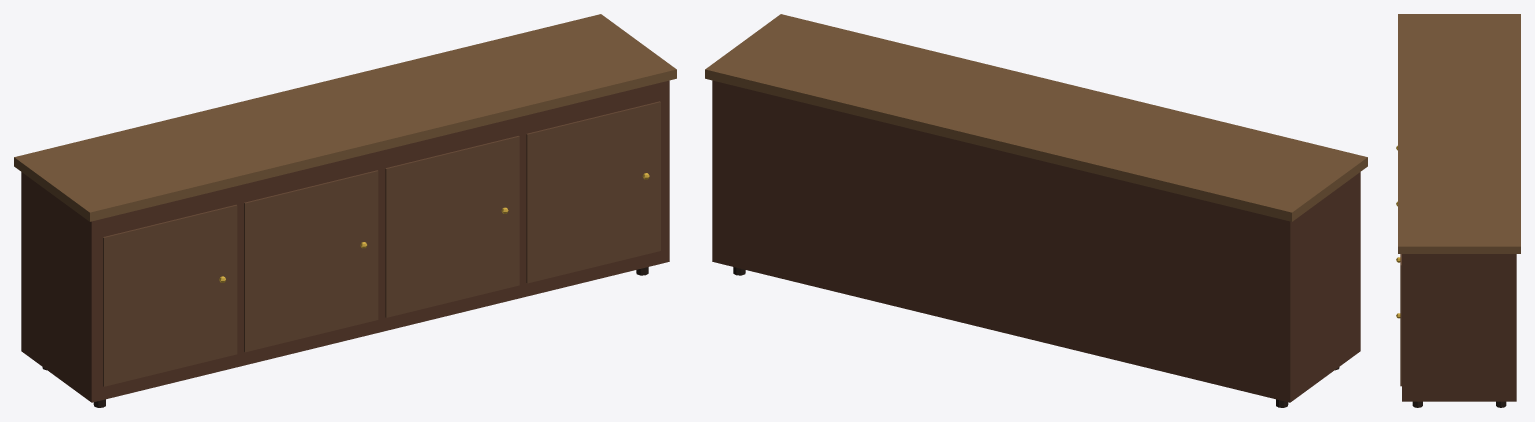
File: sideboard.fbx
The picture shows the model from 3 angles, left to right: view 1: azimuth 30°, elevation 25°; view 2: azimuth 150°, elevation 25°; view 3: azimuth 270°, elevation 25°; orthographic projection. The views are drawn at different scales.
Visible parts, largest first — view 1: sideboard; view 2: sideboard; view 3: sideboard.
Boxes of the visible parts, bbox=[...] form: sideboard: bbox=[14, 14, 676, 407]; sideboard: bbox=[705, 14, 1367, 407]; sideboard: bbox=[1396, 14, 1520, 407].
Size of the model in its own units: 2.64 by 0.89 by 0.599.
